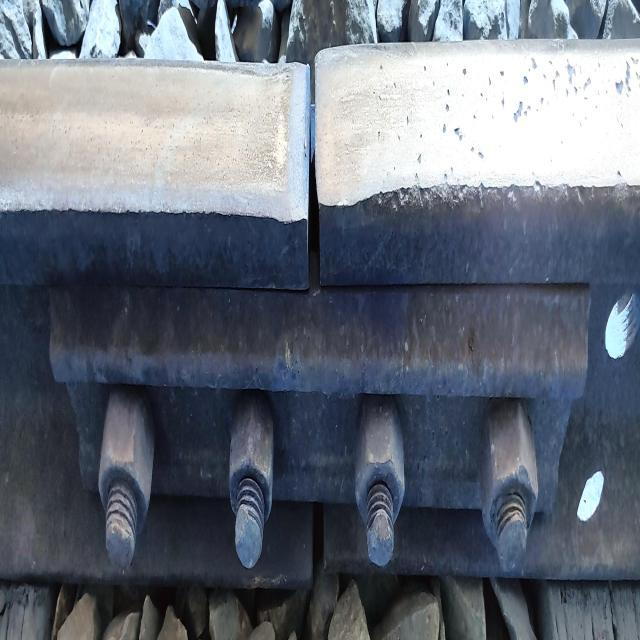Good Joint: (51, 283, 594, 569)
